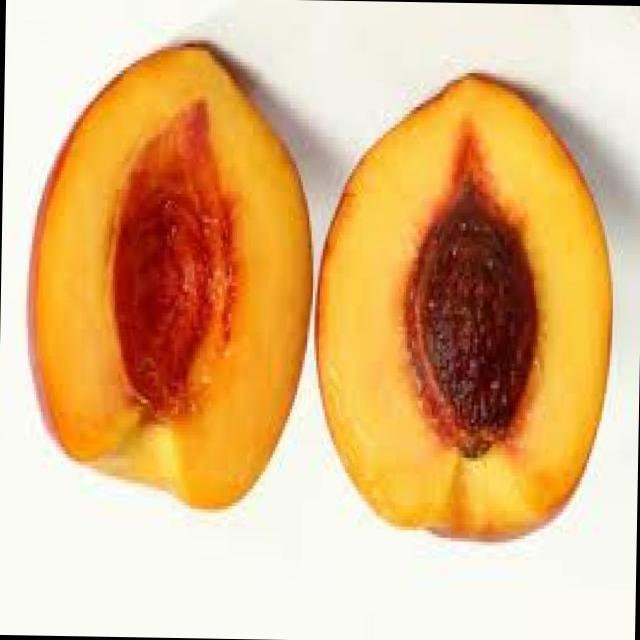Peach: (298, 62, 628, 586), (8, 19, 316, 538)
